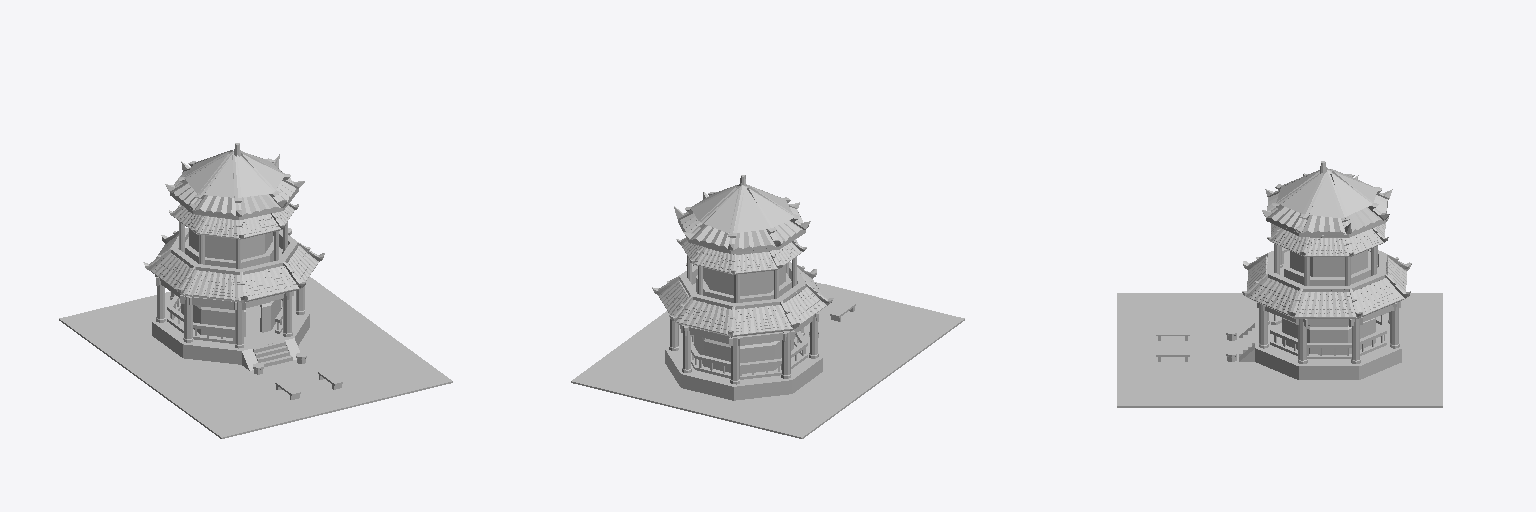
File: Oriental Building.obj
The picture shows the model from 3 angles: view 1: azimuth 30°, elevation 25°; view 2: azimuth 150°, elevation 25°; view 3: azimuth 270°, elevation 25°; orthographic projection.
Visible parts, largest first — view 1: pCube6, pasted__pasted__pasted__group48_pasted__pCylinder8 pasted__paste, pasted__pCylinder10, pCube2, pasted__pCylinder5 group16, pCylinder5, pasted__pasted__pasted__pasted__group33_pasted__pasted__pasted__, pasted__pasted__pasted__pasted__pasted__pasted__pasted__pasted__, pasted__pasted__pasted__pasted__pasted__pasted__pCylinder3 paste; view 2: pCube6, pasted__pasted__pasted__group48_pasted__pCylinder8 pasted__paste, pasted__pCylinder10, pasted__pCylinder5 group16, pCylinder5, pasted__pasted__pasted__pasted__group33_pasted__pasted__pasted__, pCube2, pasted__pasted__pasted__pasted__pasted__pasted__pasted__pasted__, pasted__pasted__pasted__pasted__pasted__pasted__pasted__pCylinde; view 3: pCube6, pasted__pasted__pasted__group48_pasted__pCylinder8 pasted__paste, pasted__pCylinder10, pasted__pCylinder5 group16, pCylinder5, pCube2, pasted__pasted__pasted__pasted__group33_pasted__pasted__pasted__, pasted__pasted__pasted__pasted__pasted__pasted__pCylinder3 paste, pasted__pasted__pasted__pasted__pasted__pasted__pasted__pasted__.
Part boxes in pixels (x1,y1,x2,y2): pCube6: (59,276,452,438); pasted__pasted__pasted__group48_pasted__pCylinder8 pasted__paste: (143,203,324,302); pasted__pCylinder10: (165,150,304,219); pCube2: (242,338,362,414); pasted__pCylinder5 group16: (181,229,280,337); pCylinder5: (152,297,309,364); pasted__pasted__pasted__pasted__group33_pasted__pasted__pasted__: (167,295,282,343); pasted__pasted__pasted__pasted__pasted__pasted__pasted__pasted__: (156,221,287,322); pasted__pasted__pasted__pasted__pasted__pasted__pCylinder3 paste: (235,286,304,348); pCube6: (571,282,964,438); pasted__pasted__pasted__group48_pasted__pCylinder8 pasted__paste: (652,238,833,336); pasted__pCylinder10: (674,184,810,253); pasted__pCylinder5 group16: (694,265,793,373); pCylinder5: (665,333,822,400); pasted__pasted__pasted__pasted__group33_pasted__pasted__pasted__: (691,331,807,379); pCube2: (804,284,875,338); pasted__pasted__pasted__pasted__pasted__pasted__pasted__pasted__: (687,256,796,378); pasted__pasted__pasted__pasted__pasted__pasted__pasted__pCylinde: (669,262,818,358); pCube6: (1117,293,1442,407); pasted__pasted__pasted__group48_pasted__pCylinder8 pasted__paste: (1242,217,1411,318); pasted__pCylinder10: (1262,168,1392,237); pasted__pCylinder5 group16: (1282,250,1375,354); pCylinder5: (1255,315,1401,379); pCube2: (1117,323,1254,361); pasted__pasted__pasted__pasted__group33_pasted__pasted__pasted__: (1270,313,1386,358); pasted__pasted__pasted__pasted__pasted__pasted__pCylinder3 paste: (1268,302,1399,363); pasted__pasted__pasted__pasted__pasted__pasted__pasted__pasted__: (1274,244,1377,285).
Size of the model in its own units: 29.37 by 23.16 by 35.75.